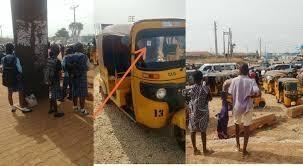keke: (125, 12, 191, 156), (278, 77, 303, 119)
